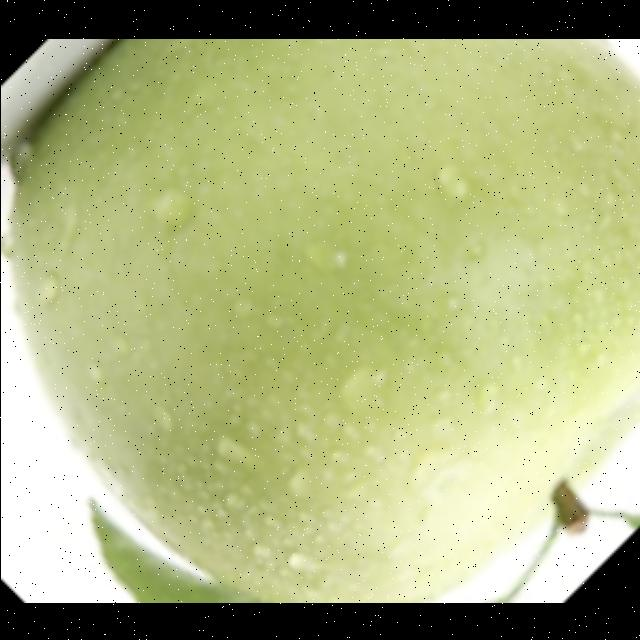Apel Segar: (0, 38, 640, 602)
